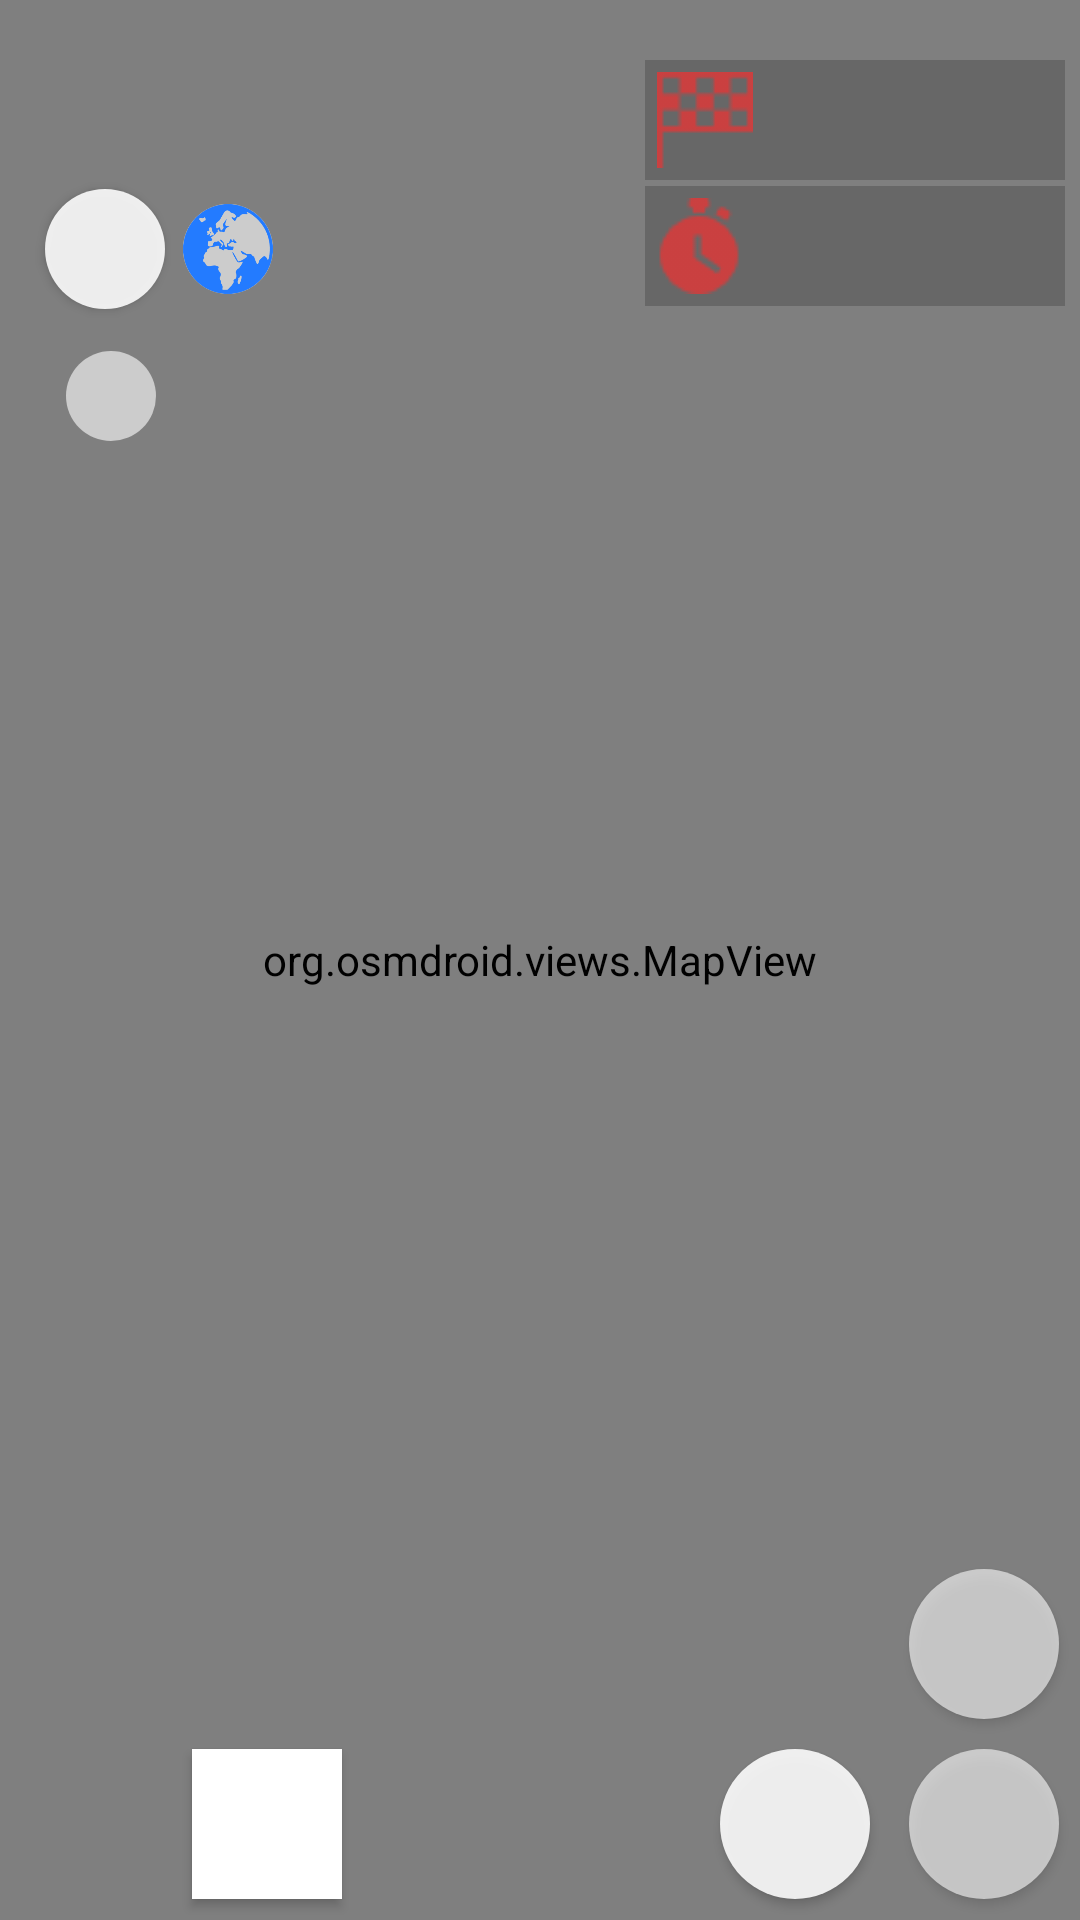

Icon click points for this 1080×1920 phone screenshot, format (x,y):
earth globe: (228,249)
